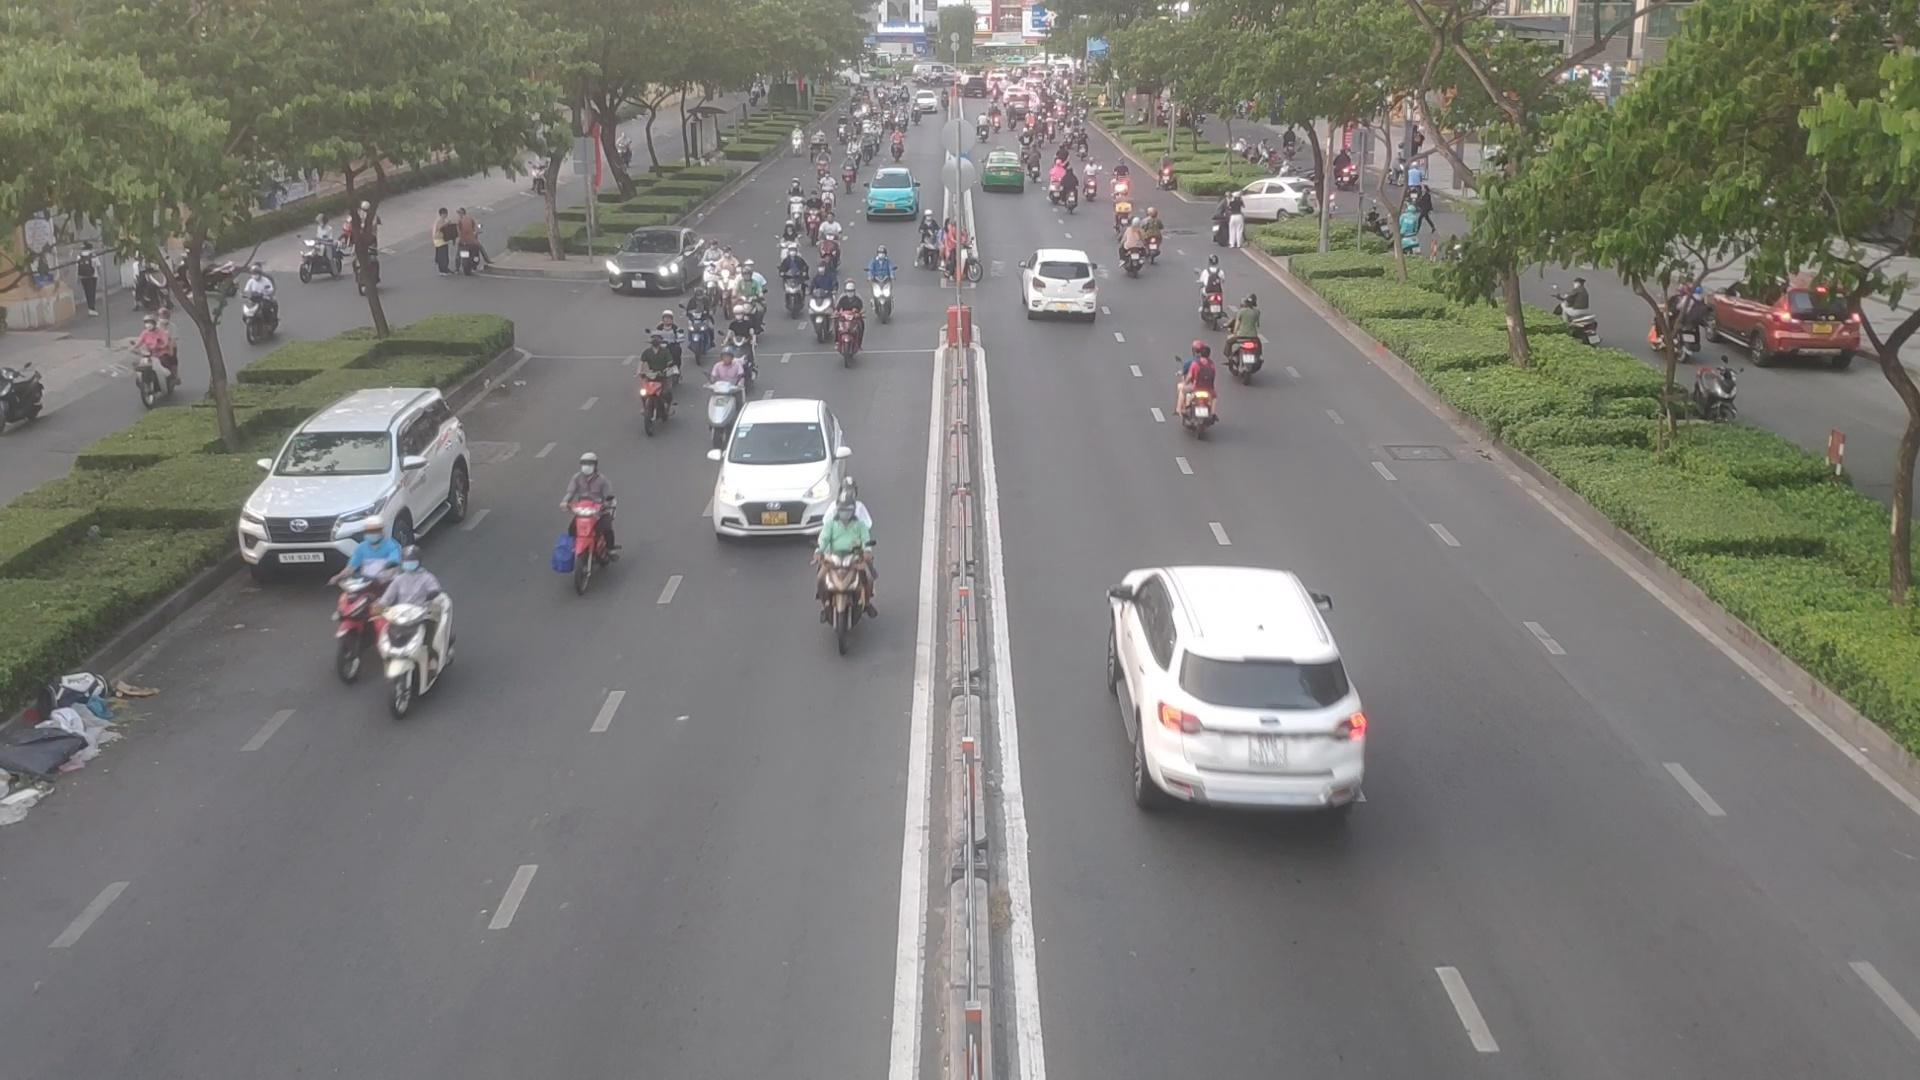car: (1098, 563, 1370, 814), (232, 382, 491, 578), (705, 400, 851, 545), (604, 229, 709, 297), (1025, 247, 1105, 320), (1230, 179, 1311, 224), (862, 169, 924, 224), (984, 149, 1025, 196)
motorbike: (811, 479, 884, 676), (378, 556, 459, 709), (555, 454, 622, 593), (630, 342, 676, 427), (1183, 345, 1218, 440), (831, 280, 868, 368), (703, 351, 736, 443), (647, 309, 687, 382), (1193, 255, 1230, 328), (713, 237, 745, 320), (1232, 295, 1261, 385), (944, 224, 980, 290), (725, 306, 757, 373), (736, 262, 767, 330), (804, 264, 829, 340), (873, 252, 905, 311), (913, 211, 942, 273), (686, 293, 711, 363), (1139, 210, 1168, 264), (1117, 222, 1142, 280), (781, 251, 804, 309), (774, 224, 804, 268), (698, 244, 720, 301), (1064, 171, 1084, 220), (822, 214, 839, 265), (1080, 162, 1102, 199), (804, 195, 822, 240), (1112, 196, 1133, 232), (785, 179, 803, 216), (1113, 157, 1130, 196), (1048, 162, 1065, 196)
